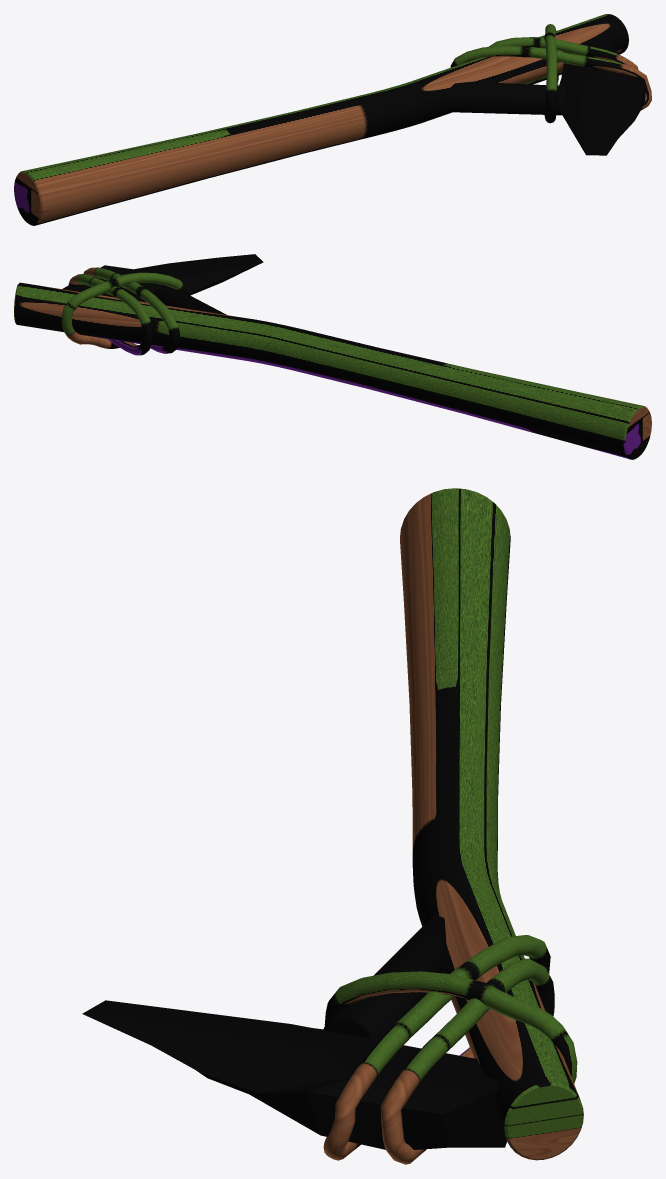
The model's file is Pickaxe_T1.fbx.
3 renders of one model, top to bottom at view 1: azimuth 30°, elevation 25°; view 2: azimuth 150°, elevation 25°; view 3: azimuth 270°, elevation 25°, orthographic. The views are drawn at different scales.
Parts seen in each view (by area): view 1: Pickaxe_LOW; view 2: Pickaxe_LOW; view 3: Pickaxe_LOW.
Boxes of the visible parts, box(x1,y1,x2,y2) form: Pickaxe_LOW: box(14, 14, 651, 225); Pickaxe_LOW: box(14, 254, 651, 459); Pickaxe_LOW: box(82, 488, 583, 1164).
Bounding box in the file's own units: 118 × 13.46 × 42.43.
